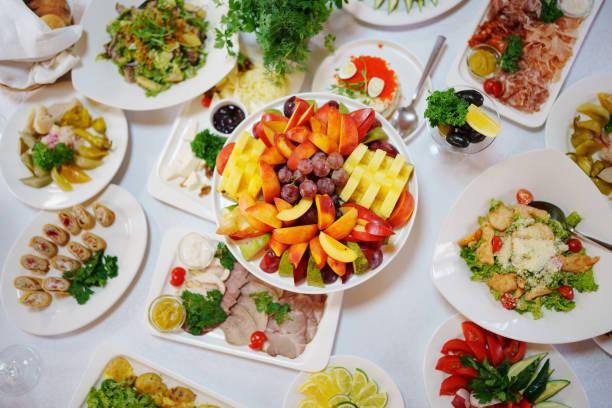Braised Crucian Carp: (213, 89, 421, 295), (433, 151, 611, 342), (2, 185, 148, 336), (73, 0, 235, 110), (1, 94, 127, 210)
